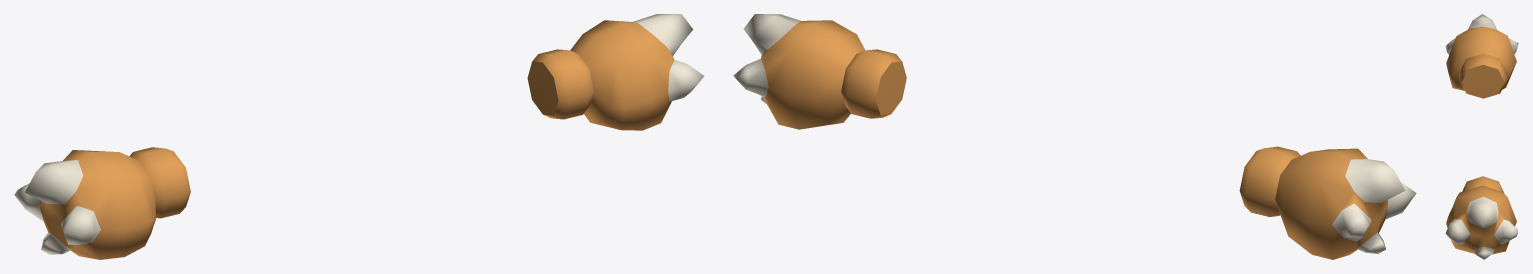
The model's file is Glove_10.fbx.
3 renders of one model, left to right at view 1: azimuth 30°, elevation 25°; view 2: azimuth 150°, elevation 25°; view 3: azimuth 270°, elevation 25°, orthographic. The views are drawn at different scales.
Parts seen in each view (by area): view 1: Glove_10; view 2: Glove_10; view 3: Glove_10.
Boxes of the visible parts, x1,y1,x2,y2 form: Glove_10: [14, 14, 704, 259]; Glove_10: [733, 14, 1416, 259]; Glove_10: [1445, 14, 1518, 259].
Bounding box in the file's own units: 146 × 21.02 × 22.22.
